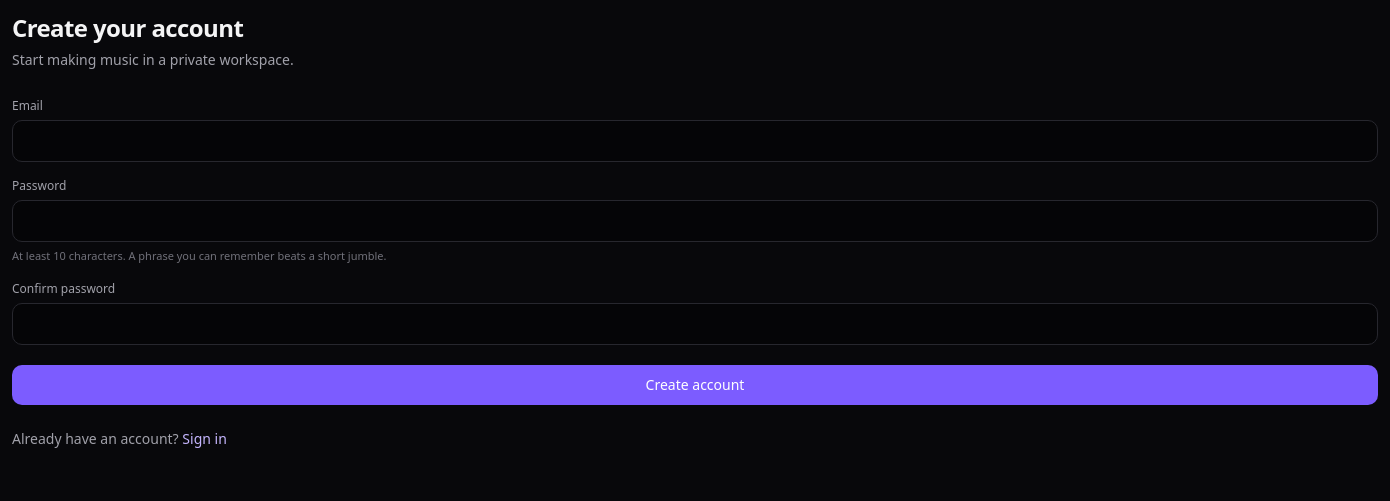
Test: signup › enforces the same minimum length the backend does
Type "new@example.com" into the field labelled "Email" at [695, 141], box [12, 120, 1378, 162]
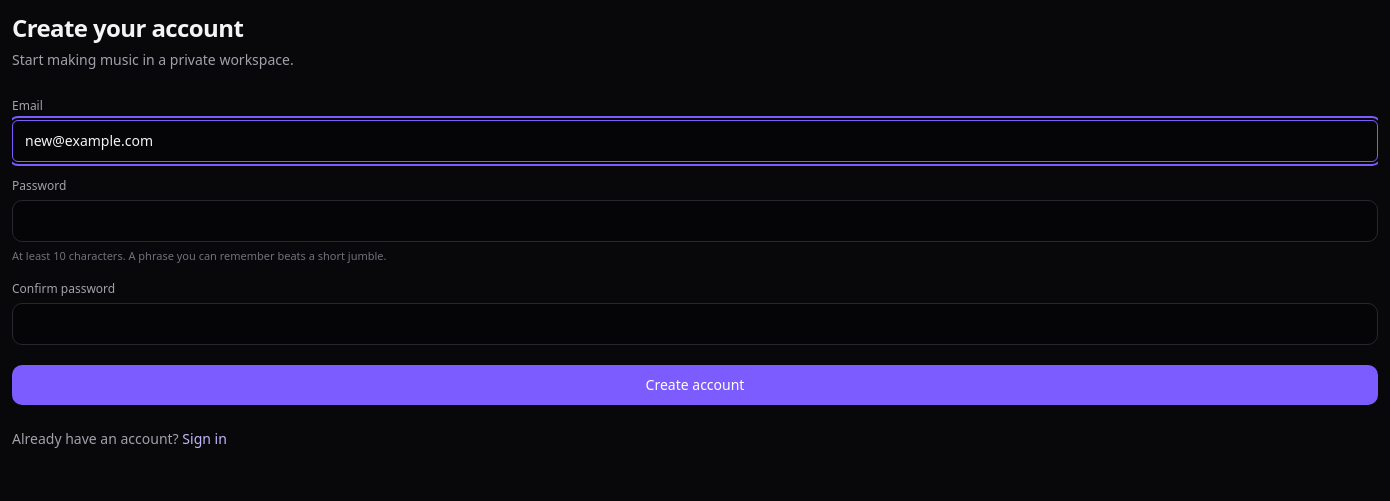
Type "short" into the password field labelled "Password" at [695, 221], box [12, 200, 1378, 242]
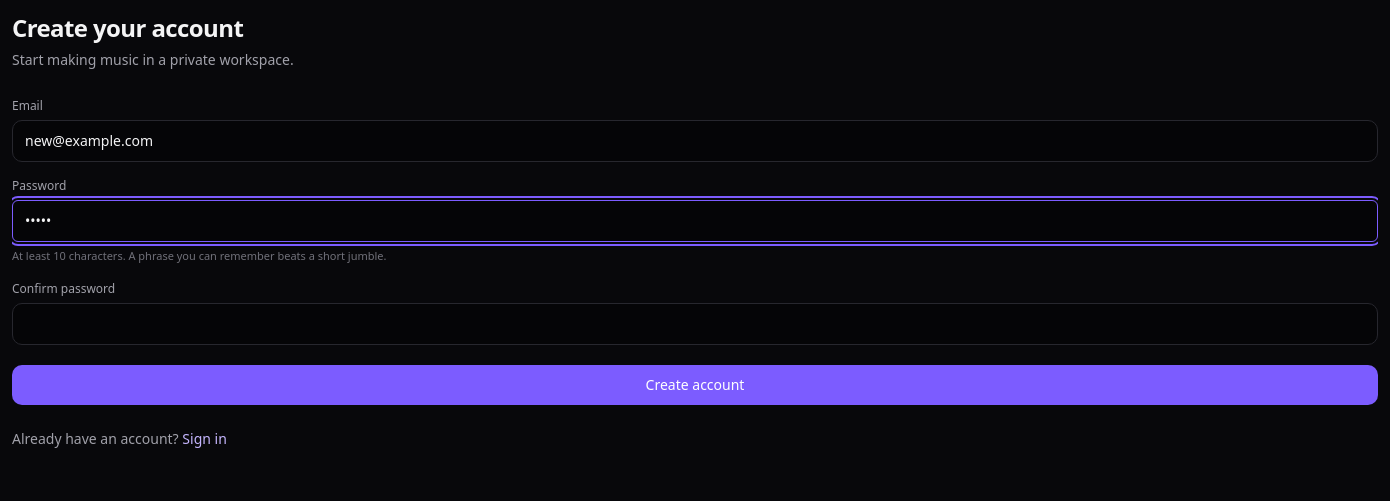
Type "short" into the password field labelled "Confirm password" at [695, 324], box [12, 302, 1378, 344]
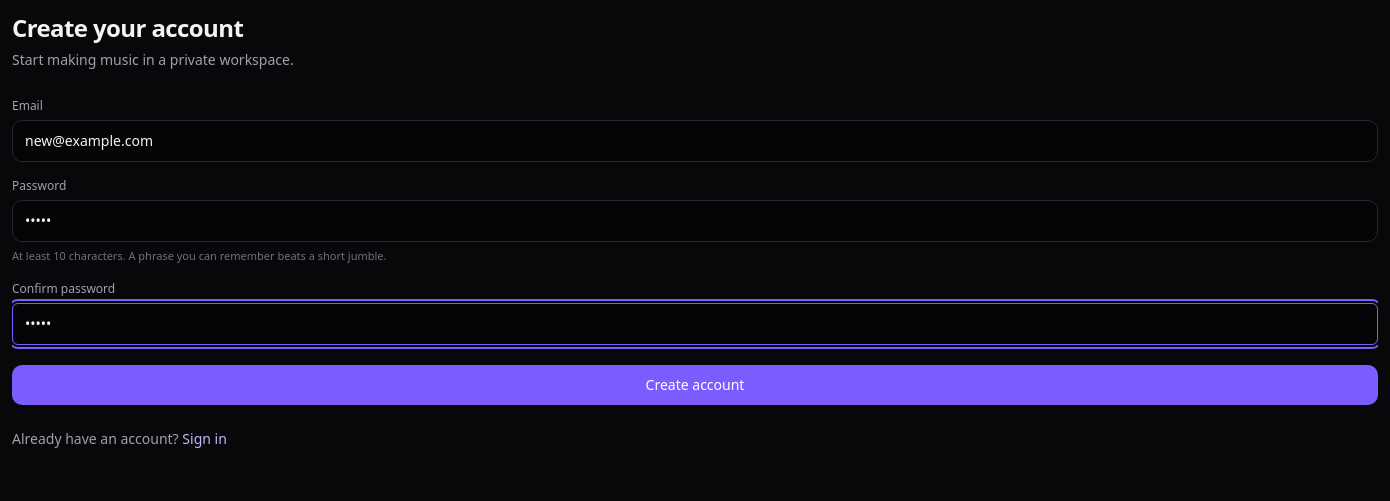
Click the button "Create account" at [695, 384], box [12, 364, 1378, 404]
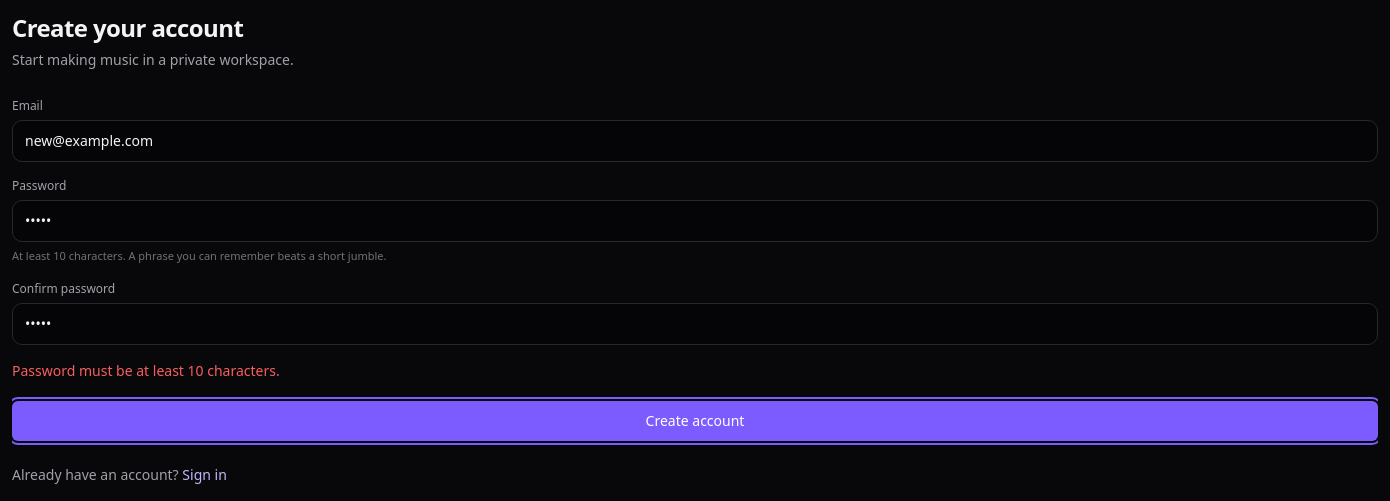
Expected: the message shows "at least 10 characters", [12, 360, 280, 380]
